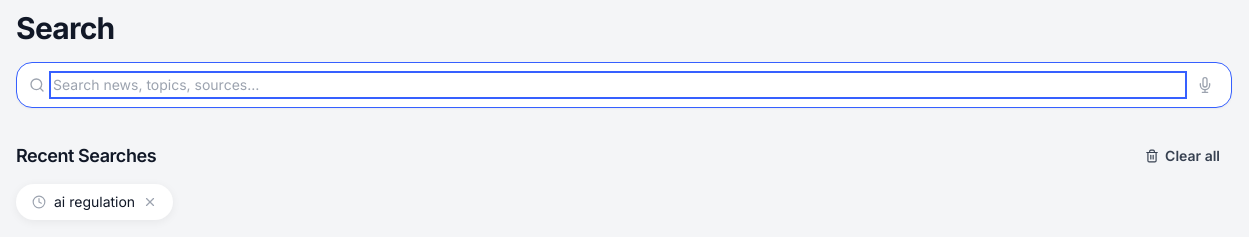
Test case: Search page › clicking a recent search term re-populates the search box
Click the button "ai regulation" at {"x": 84, "y": 202}, box top-left (32, 192), bottom-right (135, 212)
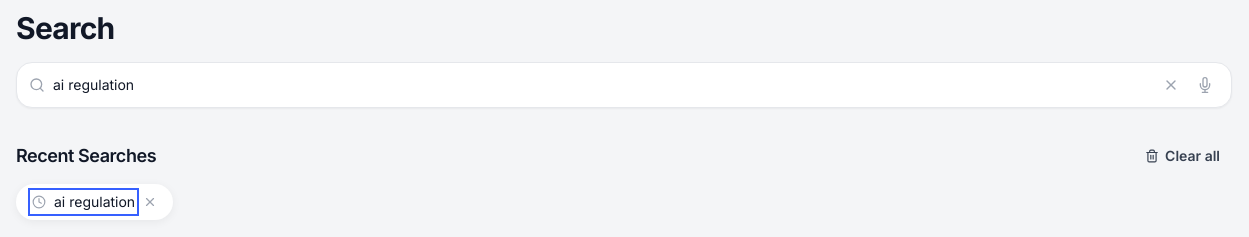
Check: the search field named "Search news" holds "ai regulation", box top-left (53, 75), bottom-right (1151, 95)
